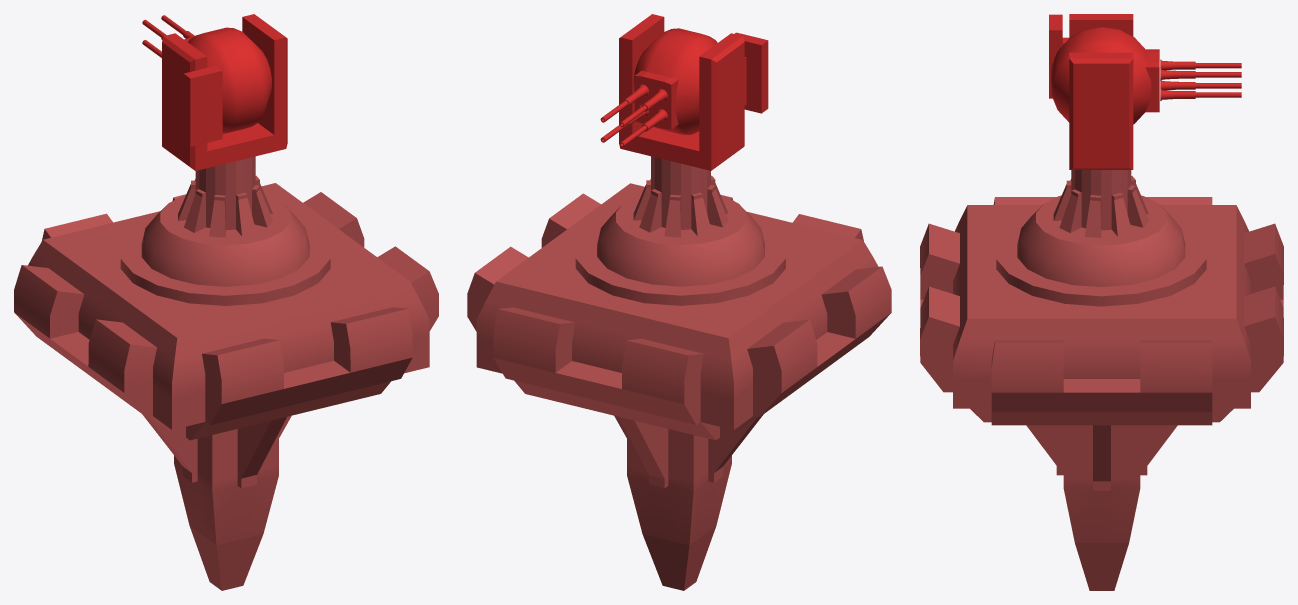
The model's file is Space Tower Level 2.FBX.
3 renders of one model, left to right at view 1: azimuth 30°, elevation 25°; view 2: azimuth 150°, elevation 25°; view 3: azimuth 270°, elevation 25°, orthographic.
Visible parts, largest first — view 1: Tower Base, Tower turning structure, Gun Level 2, Tower turning base, Gun implacement; view 2: Tower Base, Tower turning structure, Gun Level 2, Tower turning base, Gun implacement; view 3: Tower Base, Tower turning structure, Gun Level 2, Tower turning base, Gun implacement, Lower Gun part001, Lower Gun part.
Part boxes in pixels (<box>): Tower Base: <box>14,183,438,590</box>; Tower turning structure: <box>141,156,309,286</box>; Gun Level 2: <box>162,14,287,170</box>; Tower turning base: <box>120,217,330,305</box>; Gun implacement: <box>184,27,271,133</box>; Tower Base: <box>467,183,891,590</box>; Tower turning structure: <box>597,156,764,286</box>; Gun Level 2: <box>619,14,768,170</box>; Tower turning base: <box>575,217,785,305</box>; Gun implacement: <box>633,28,717,135</box>; Tower Base: <box>920,197,1283,590</box>; Tower turning structure: <box>1017,170,1185,287</box>; Gun Level 2: <box>1049,14,1133,169</box>; Tower turning base: <box>996,218,1206,306</box>; Gun implacement: <box>1051,26,1159,124</box>; Lower Gun part001: <box>1160,59,1195,90</box>; Lower Gun part: <box>1160,68,1195,100</box>.
Size of the model in its own units: 61.08 by 102 by 61.08.
